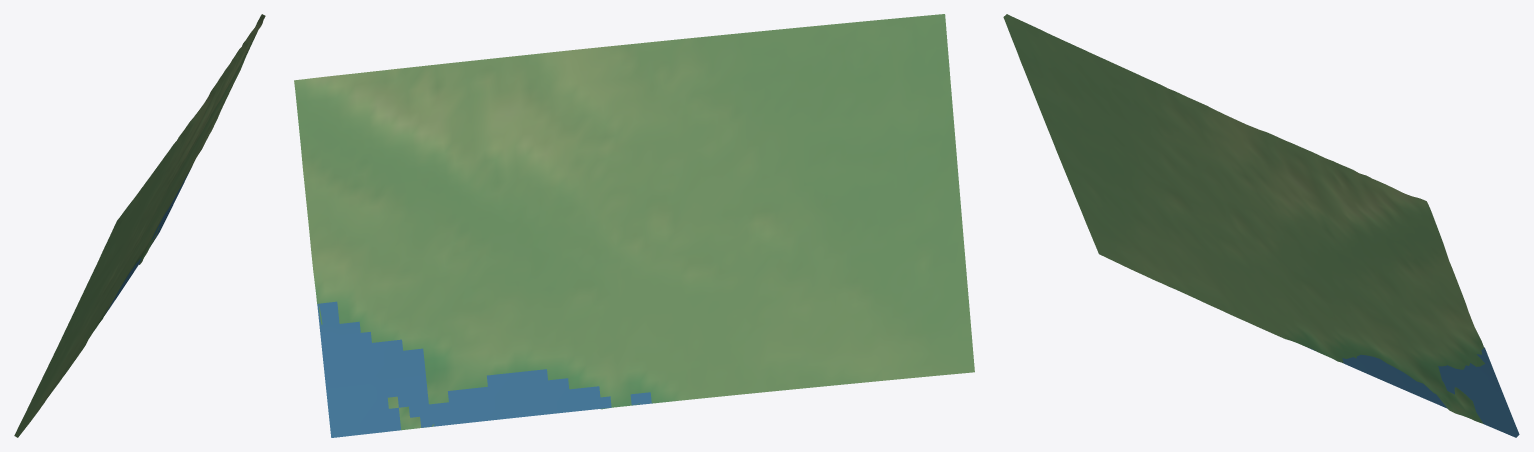
The picture shows the model from 3 angles, left to right: view 1: azimuth 30°, elevation 25°; view 2: azimuth 150°, elevation 25°; view 3: azimuth 270°, elevation 25°; orthographic projection. The views are drawn at different scales.
Parts seen in each view (by area): view 1: geometry_0, geometry_1; view 2: geometry_0, geometry_1; view 3: geometry_0, geometry_1.
Boxes of the visible parts, x1,y1,x2,y2 form: geometry_0: (14, 14, 265, 437); geometry_1: (105, 167, 191, 314); geometry_0: (294, 14, 974, 429); geometry_1: (317, 301, 652, 437); geometry_0: (1003, 14, 1484, 423); geometry_1: (1308, 347, 1519, 437).
Bounding box in the file's own units: 252466 × 144245 × 244869.
